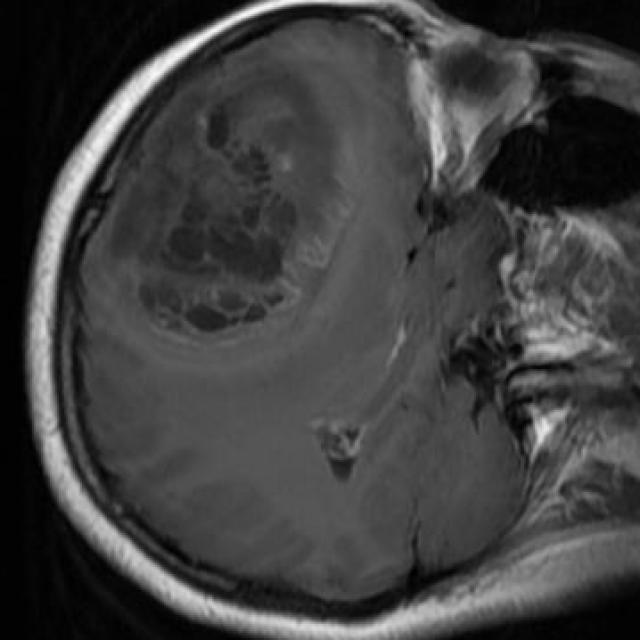glioma: (109, 50, 342, 342)
